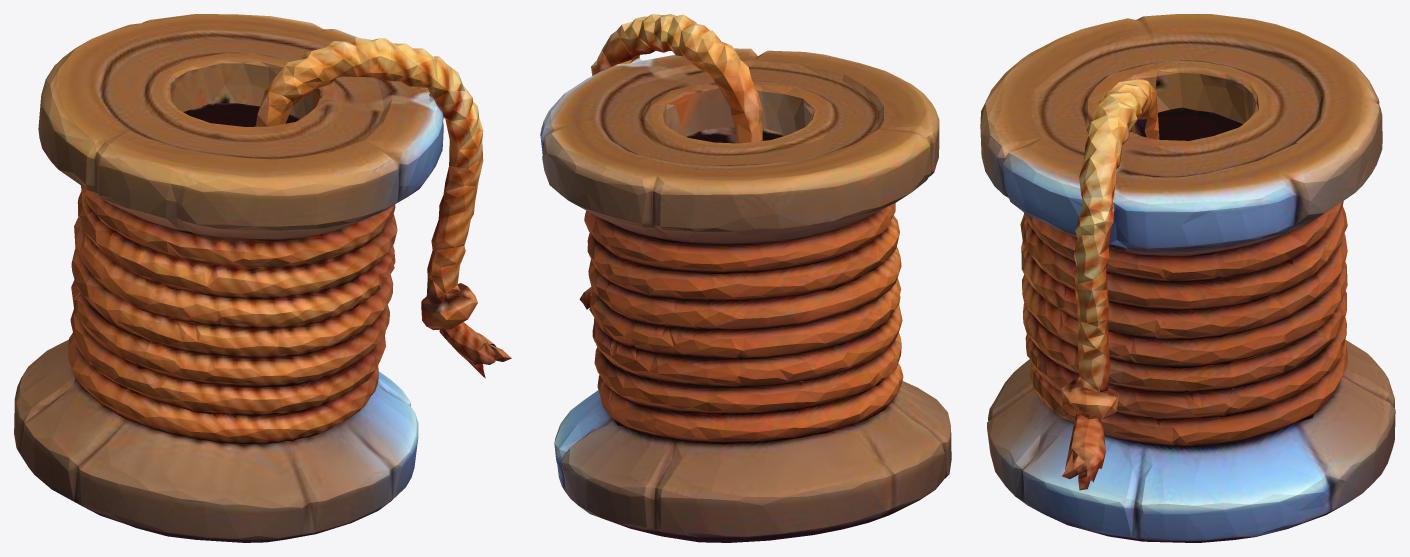
The model's file is rope_spool.glb.
3 renders of one model, left to right at view 1: azimuth 30°, elevation 25°; view 2: azimuth 150°, elevation 25°; view 3: azimuth 270°, elevation 25°, orthographic. The views are drawn at different scales.
Visible parts, largest first — view 1: tmp0u51eyj2.ply; view 2: tmp0u51eyj2.ply; view 3: tmp0u51eyj2.ply.
Boxes of the visible parts, x1,y1,x2,y2 form: tmp0u51eyj2.ply: [14, 14, 511, 542]; tmp0u51eyj2.ply: [540, 14, 951, 542]; tmp0u51eyj2.ply: [980, 14, 1395, 542].
Bounding box in the file's own units: 1.96 × 1.99 × 1.73.
Materials: 1 (1 with a texture image).
